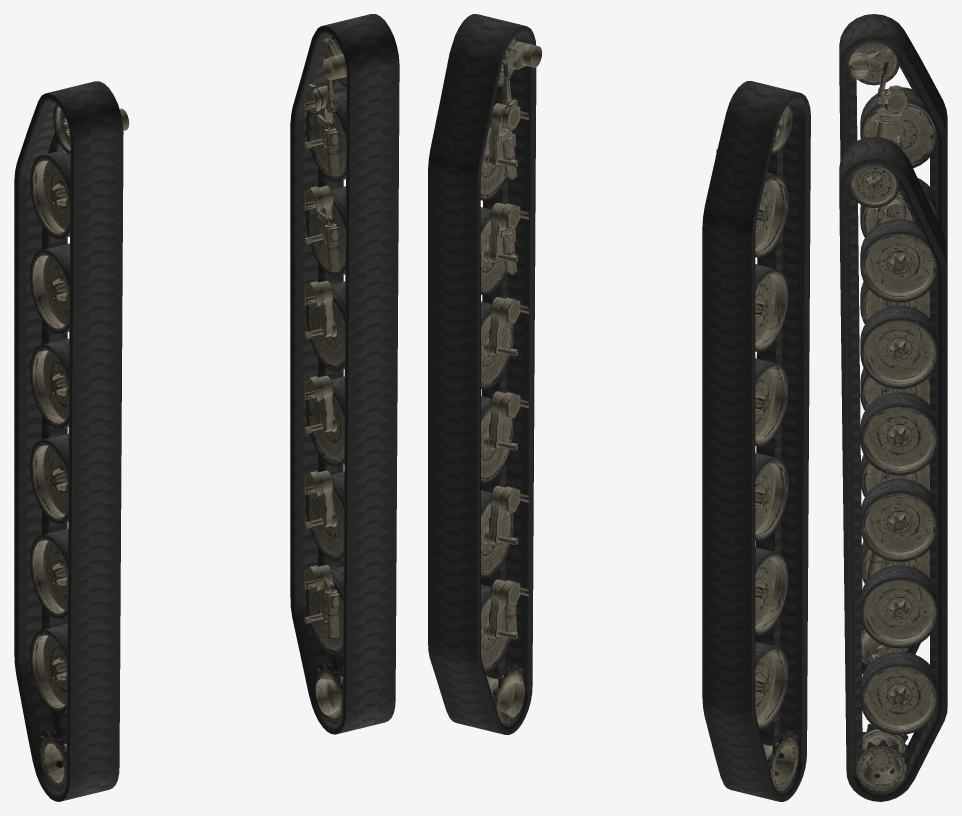
The model's file is Chassis.glb.
3 renders of one model, left to right at view 1: azimuth 30°, elevation 25°; view 2: azimuth 150°, elevation 25°; view 3: azimuth 270°, elevation 25°, orthographic. The views are drawn at different scales.
Parts seen in each view (by area): view 1: set_0_group_0, set_1_group_0, set_3_group_0, set_2_group_0; view 2: set_0_group_0, set_1_group_0, set_3_group_0, set_2_group_0; view 3: set_3_group_0, set_1_group_0, set_2_group_0, set_0_group_0.
Boxes of the visible parts, bbox=[...] form: set_0_group_0: bbox=[14, 81, 123, 801]; set_1_group_0: bbox=[290, 14, 399, 734]; set_3_group_0: bbox=[303, 37, 346, 723]; set_2_group_0: bbox=[30, 104, 129, 791]; set_0_group_0: bbox=[702, 81, 810, 801]; set_1_group_0: bbox=[428, 14, 536, 734]; set_3_group_0: bbox=[480, 37, 541, 724]; set_2_group_0: bbox=[715, 104, 798, 791]; set_3_group_0: bbox=[848, 166, 938, 792]; set_1_group_0: bbox=[839, 136, 947, 801]; set_2_group_0: bbox=[848, 43, 938, 665]; set_0_group_0: bbox=[839, 14, 947, 674].
Bounding box in the file's own units: 3.5 × 7.25 × 1.11.
4 materials, 4 textured.
